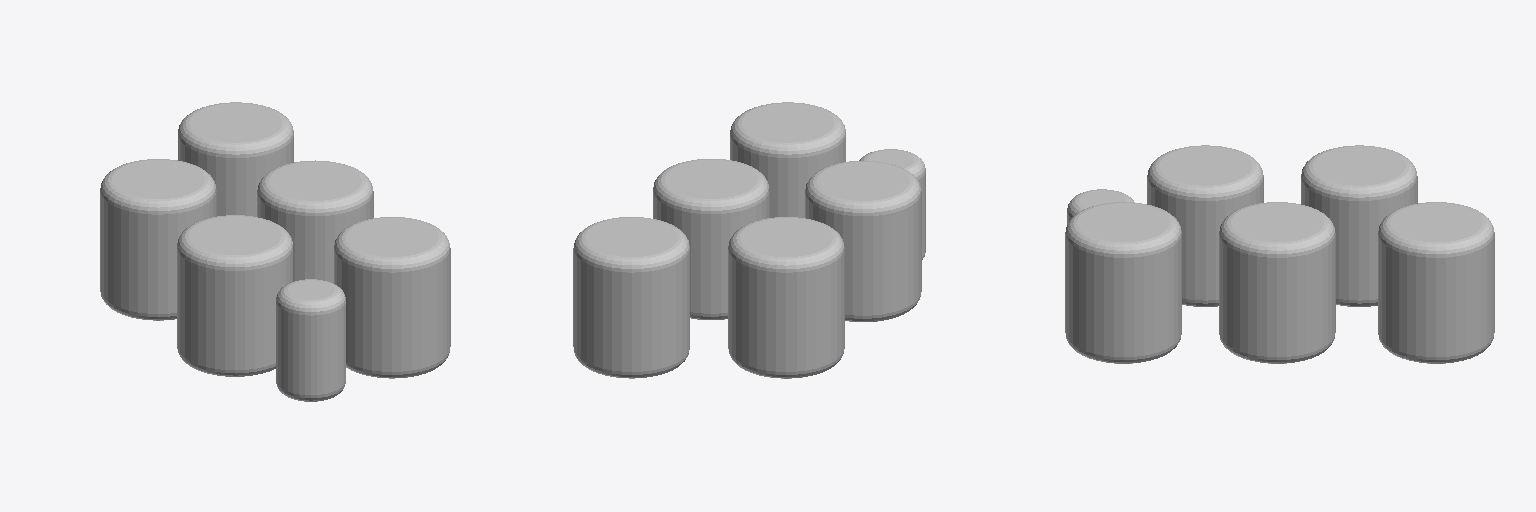
File: elements.obj
The picture shows the model from 3 angles: view 1: azimuth 30°, elevation 25°; view 2: azimuth 150°, elevation 25°; view 3: azimuth 270°, elevation 25°; orthographic projection.
Parts seen in each view (by area): view 1: Null Cylinder_1, Null Cylinder_2, Null Cylinder_4, Null Cylinder, Null Cylinder_3, Null Cylinder_5; view 2: Null Cylinder_4, Null Cylinder_3, Null Cylinder_2, Null Cylinder, Null Cylinder_1, Null Cylinder_5; view 3: Null Cylinder_1, Null Cylinder, Null Cylinder_3, Null Cylinder_4, Null Cylinder_2, Null Cylinder_5.
Part boxes in pixels (x1,y1,x2,y2): Null Cylinder_1: (334,217,450,378); Null Cylinder_2: (177,215,292,376); Null Cylinder_4: (100,159,216,320); Null Cylinder: (257,160,373,283); Null Cylinder_3: (178,102,293,216); Null Cylinder_5: (276,279,345,401); Null Cylinder_4: (728,217,844,378); Null Cylinder_3: (573,217,689,378); Null Cylinder_2: (805,161,921,321); Null Cylinder: (653,159,769,319); Null Cylinder_1: (730,102,845,217); Null Cylinder_5: (859,149,925,259); Null Cylinder_1: (1065,202,1181,363); Null Cylinder: (1219,202,1335,363); Null Cylinder_3: (1378,202,1494,363); Null Cylinder_4: (1301,145,1417,306); Null Cylinder_2: (1147,145,1263,306); Null Cylinder_5: (1067,189,1134,224).
Size of the model in its own units: 6.45 by 3.5 by 11.05.